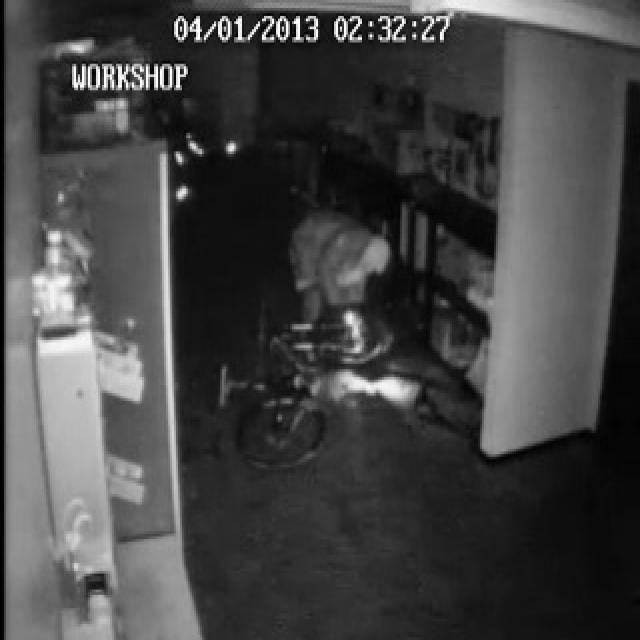thief: (293, 200, 387, 359)
